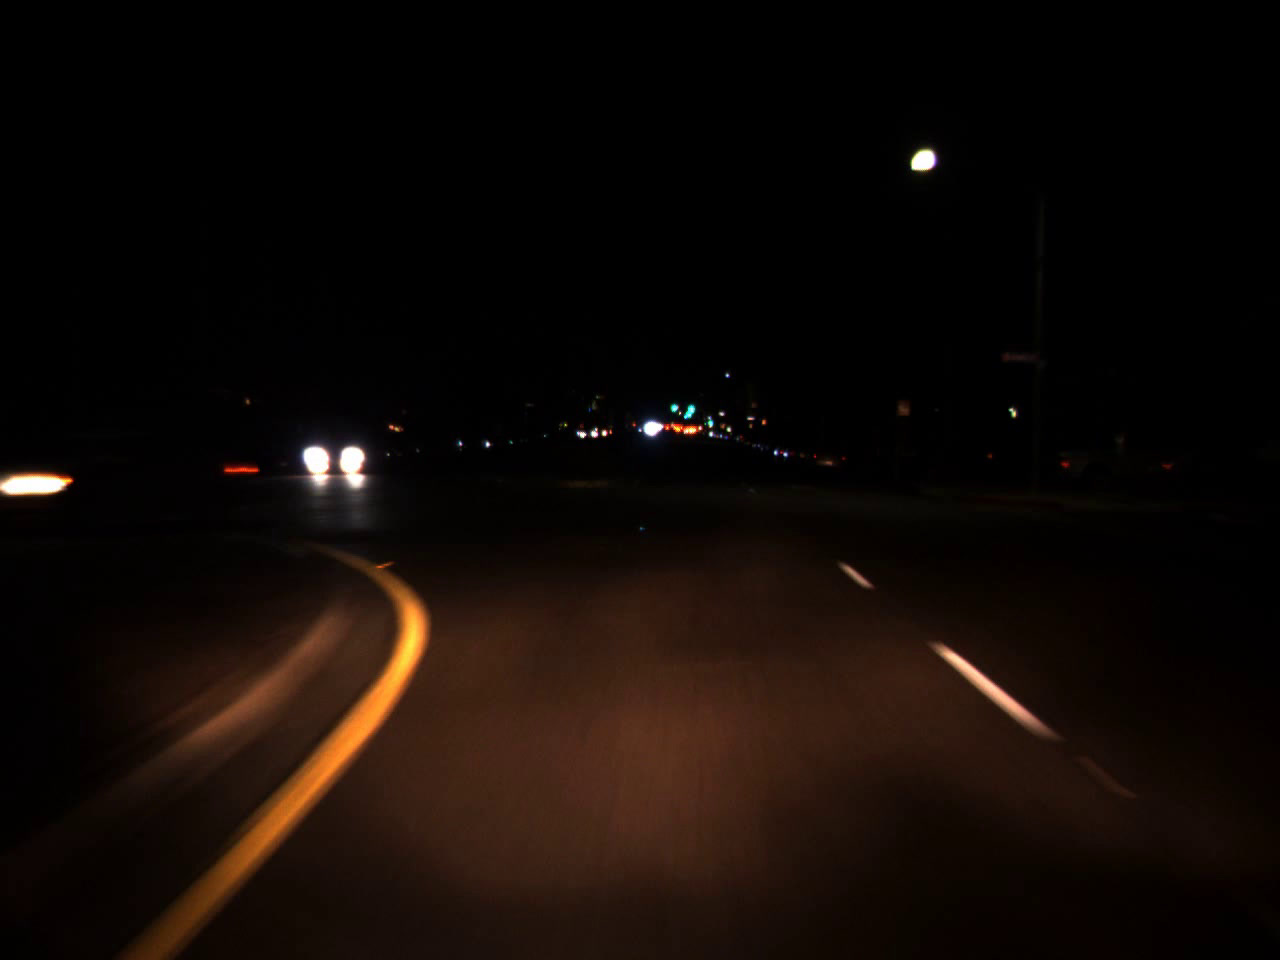go: (680, 395, 694, 419), (670, 396, 677, 414)
